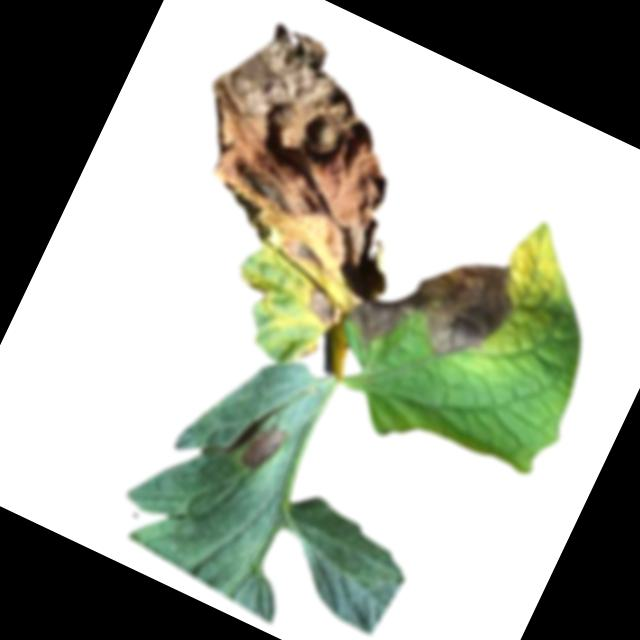Early_blight: (157, 7, 436, 286), (344, 216, 528, 392), (239, 417, 288, 476), (299, 287, 342, 330), (297, 338, 319, 363)
